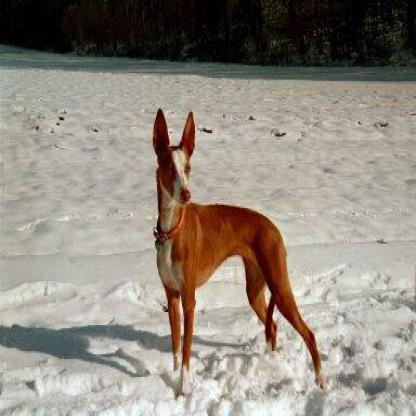dog: (144, 103, 331, 398)
